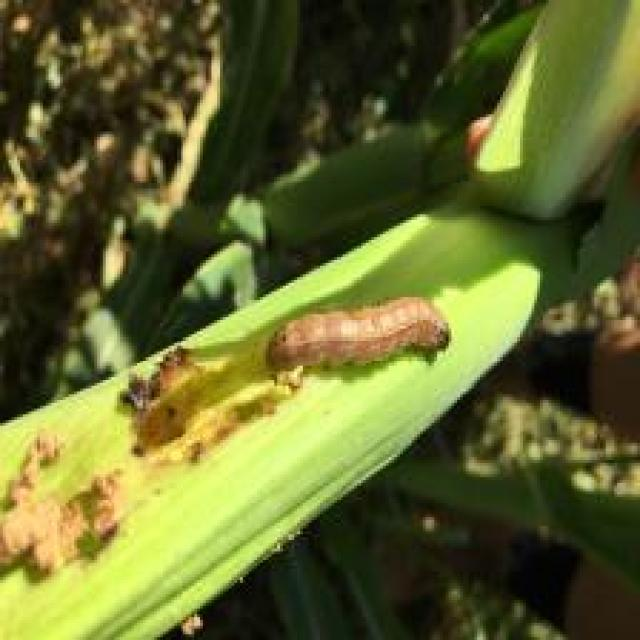Plaga: (268, 295, 460, 381)
